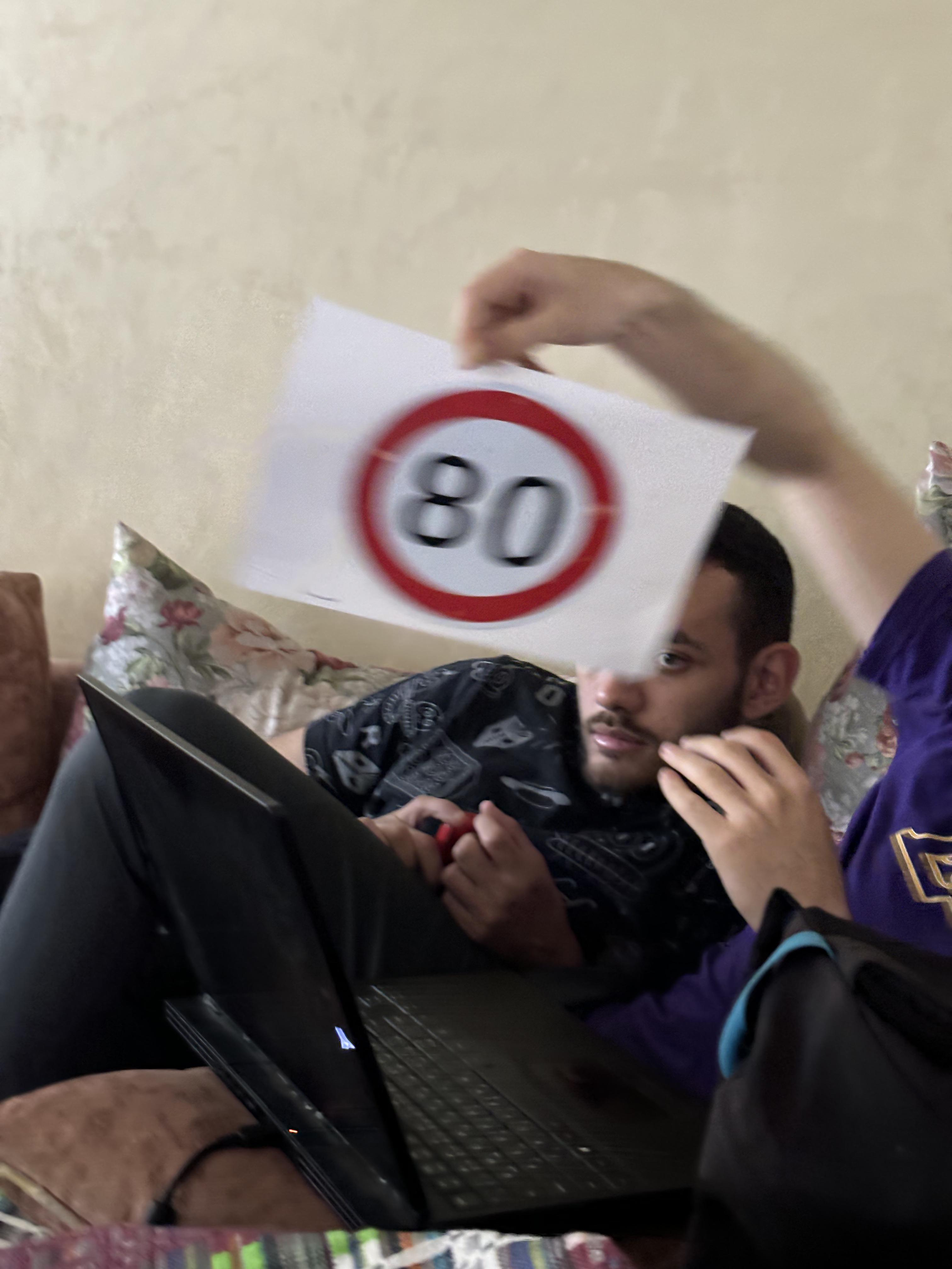80-Speed: (353, 381, 634, 629)
